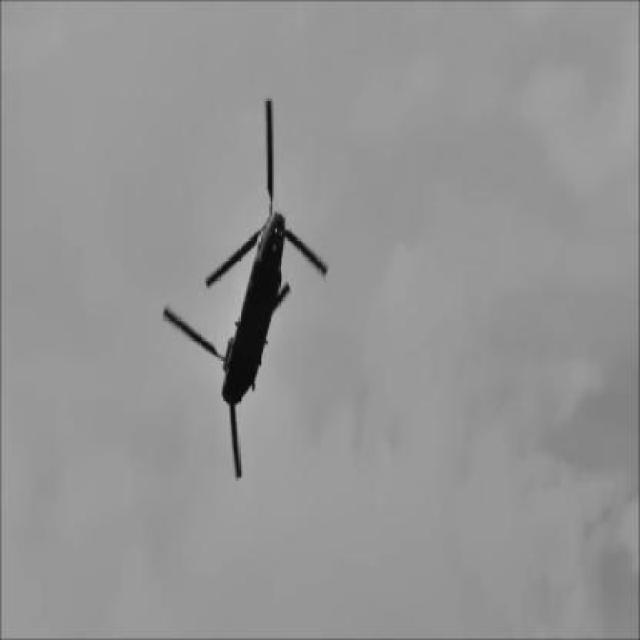Helicopter: (163, 96, 332, 484)
